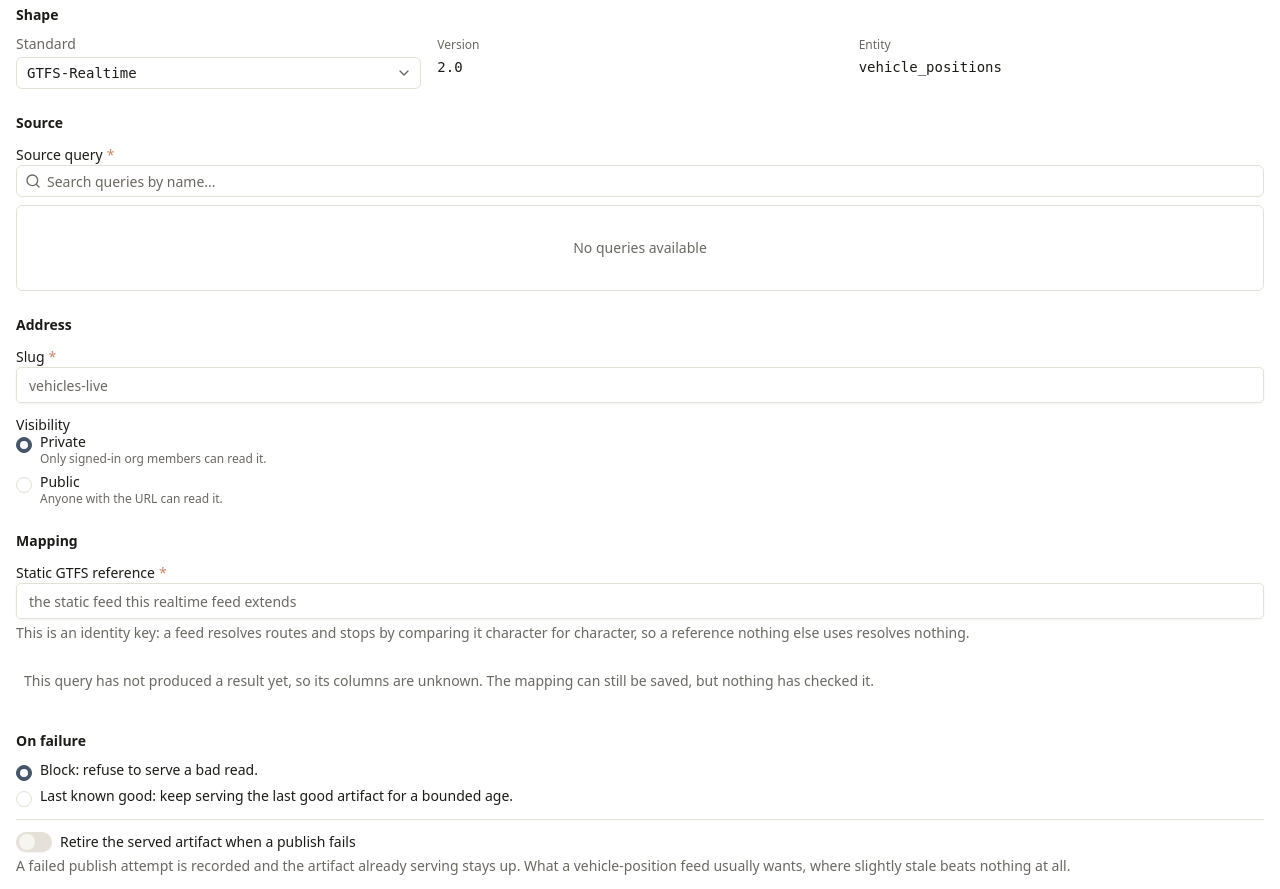
Test: retire on failure › is not offered under last known good, and says why
Click the 4th radio button named "last known good". click: (24, 799)
box: 16,791 -> 32,807
(page scrolled)
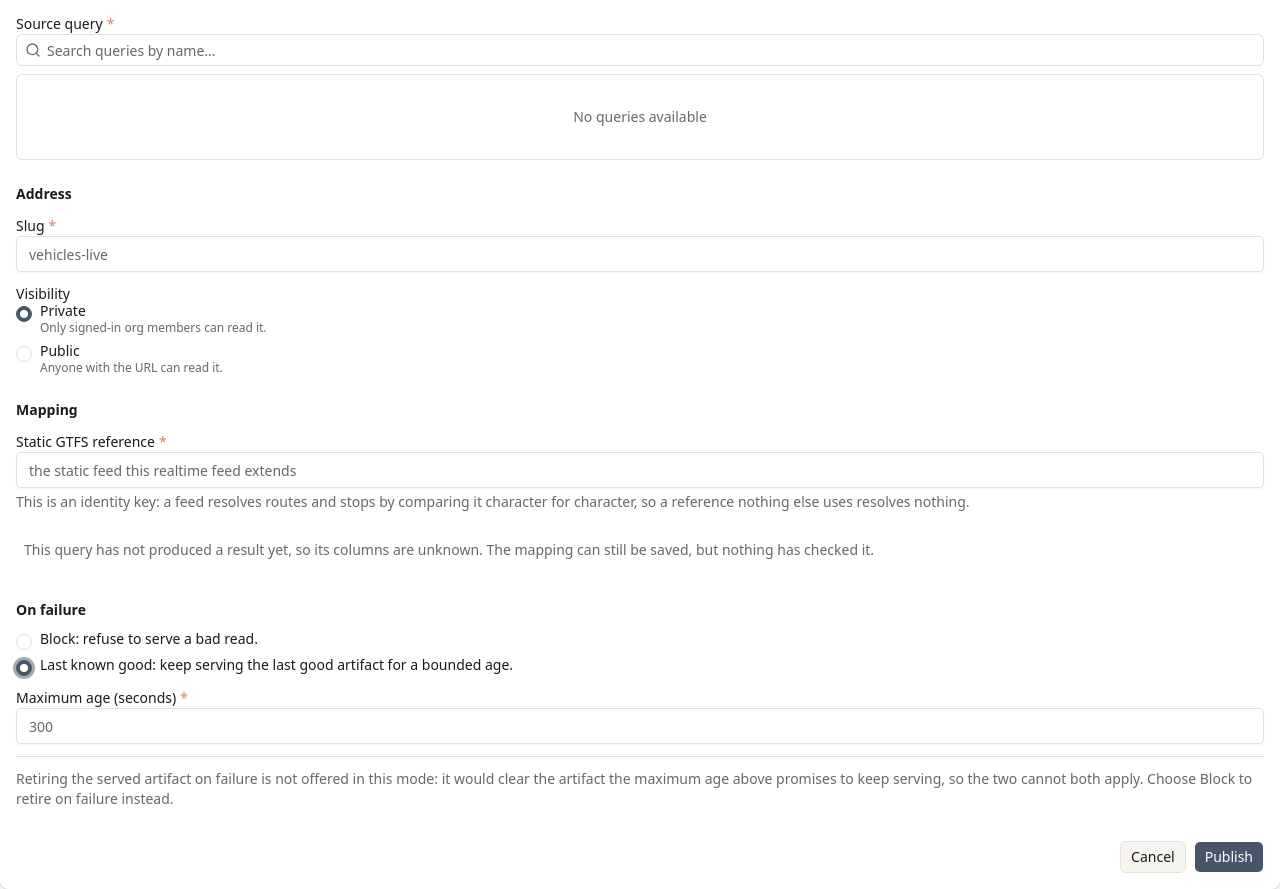
Expected: the checkbox labelled "Retire the served artifact" is gone
Expected: the text "would clear the artifact the maximum age above promises to keep serving" is shown, 16,769 -> 1252,808
